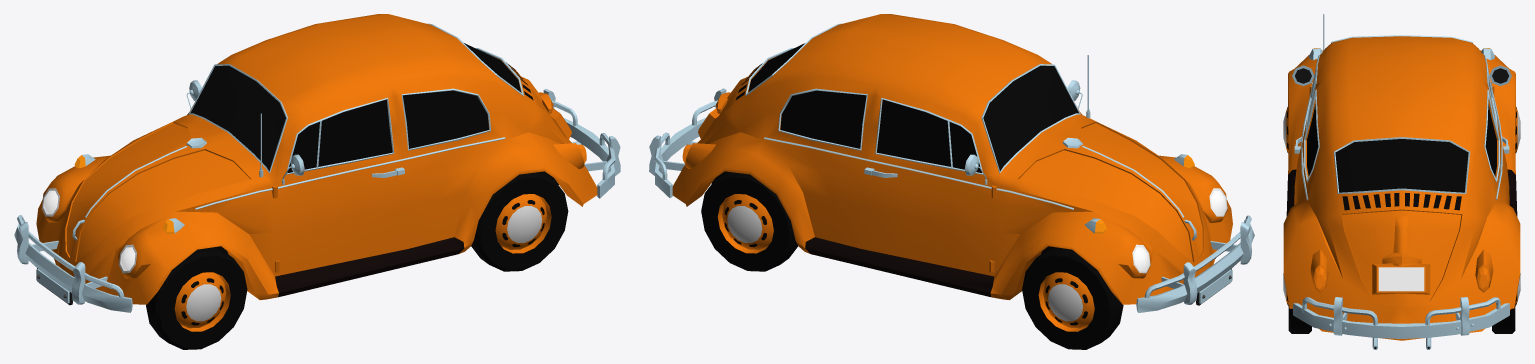
Rendered from car.glb.
3 views of the same model, side by side, from view 1: azimuth 30°, elevation 25°; view 2: azimuth 150°, elevation 25°; view 3: azimuth 270°, elevation 25° (orthographic). The views are drawn at different scales.
Parts seen in each view (by area): view 1: beetle.004, lfWheel, lrWheel.001; view 2: beetle.004, rfWheel, lrWheel; view 3: beetle.004, lrWheel, lrWheel.001, rfWheel, lfWheel.
Part boxes in pixels (<box>): beetle.004: <box>14,14,620,312</box>; lfWheel: <box>146,247,247,349</box>; lrWheel.001: <box>471,172,568,271</box>; beetle.004: <box>649,14,1254,312</box>; rfWheel: <box>1022,247,1123,349</box>; lrWheel: <box>701,172,797,271</box>; beetle.004: <box>1283,14,1520,349</box>; lrWheel: <box>1492,273,1520,333</box>; lrWheel.001: <box>1283,273,1311,333</box>; rfWheel: <box>1515,107,1520,153</box>; lfWheel: <box>1283,107,1288,153</box>.
Bounding box in the file's own units: 3.45 × 1.3 × 1.32.
Materials: 3 (2 with a texture image).
